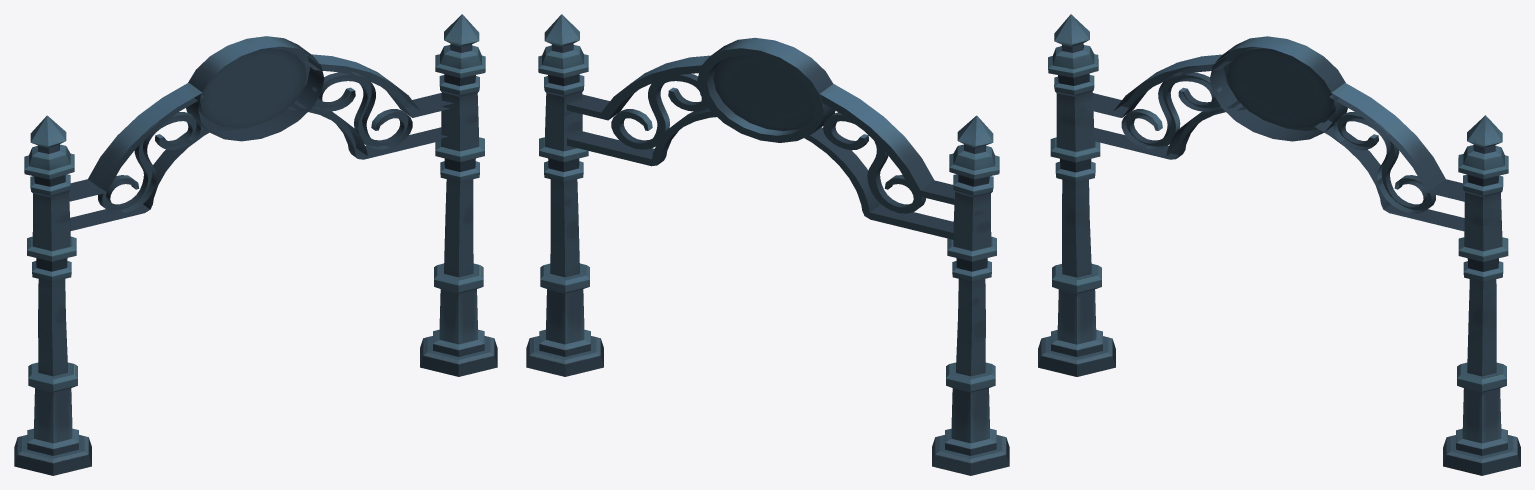
Rendered from DecoStreetGate.fbx.
3 views of the same model, side by side, from view 1: azimuth 30°, elevation 25°; view 2: azimuth 150°, elevation 25°; view 3: azimuth 330°, elevation 25° (orthographic).
Parts seen in each view (by area): view 1: WelcomeSignTop, VillageEntrancePole2, VillageEntrancePole1; view 2: WelcomeSignTop, VillageEntrancePole2, VillageEntrancePole1; view 3: WelcomeSignTop, VillageEntrancePole1, VillageEntrancePole2.
Boxes of the visible parts, x1,y1,x2,y2 form: WelcomeSignTop: (69,36,453,230); VillageEntrancePole2: (14,115,91,475); VillageEntrancePole1: (420,14,497,376); WelcomeSignTop: (566,37,954,239); VillageEntrancePole2: (932,115,1009,475); VillageEntrancePole1: (526,14,603,376); WelcomeSignTop: (1081,36,1464,231); VillageEntrancePole1: (1443,115,1520,475); VillageEntrancePole2: (1038,14,1115,376).
Size of what is drawn, in the model's own units: 4.12 by 2.95 by 0.575.
